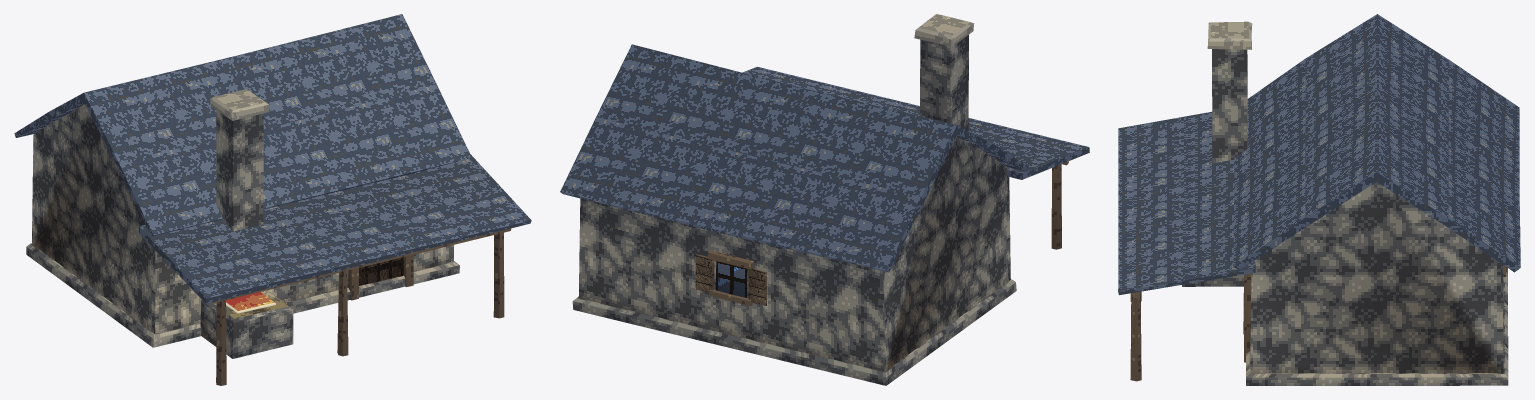
The model's file is vlg.smithy.glb.
The picture shows the model from 3 angles, left to right: view 1: azimuth 30°, elevation 25°; view 2: azimuth 150°, elevation 25°; view 3: azimuth 270°, elevation 25°; orthographic projection. The views are drawn at different scales.
Parts seen in each view (by area): view 1: kit_roof, kit_walls, kit_stonework, kit_frame, kit_fittings; view 2: kit_roof, kit_walls, kit_stonework, kit_fittings, kit_frame; view 3: kit_roof, kit_walls, kit_stonework, kit_frame, kit_fittings.
Boxes of the visible parts, x1,y1,x2,y2 form: kit_roof: (14, 14, 531, 303); kit_walls: (31, 104, 453, 334); kit_stonework: (26, 89, 459, 358); kit_frame: (211, 228, 511, 385); kit_fittings: (226, 254, 413, 313); kit_roof: (560, 44, 1089, 272); kit_walls: (578, 136, 1010, 371); kit_stonework: (572, 14, 1016, 385); kit_fittings: (695, 250, 766, 306); kit_frame: (1051, 161, 1068, 249); kit_roof: (1118, 14, 1520, 295); kit_walls: (1250, 182, 1503, 373); kit_stonework: (1182, 21, 1508, 385); kit_frame: (1130, 291, 1141, 381); kit_fittings: (1243, 265, 1507, 362).
Size of the model in its own units: 7.63 by 5.27 by 7.94.
Materials: 9 (9 with a texture image).
